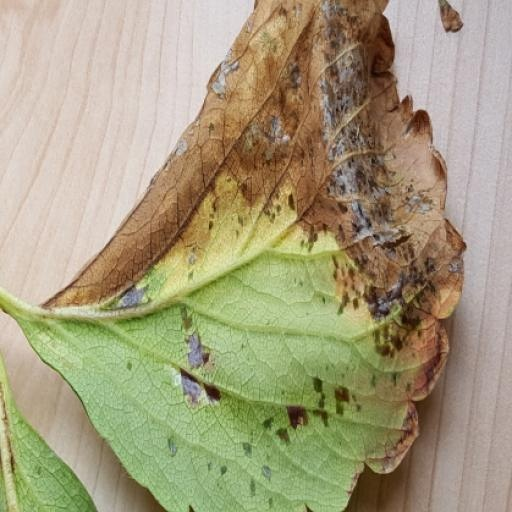Angular Leafspot: (14, 0, 469, 511)
